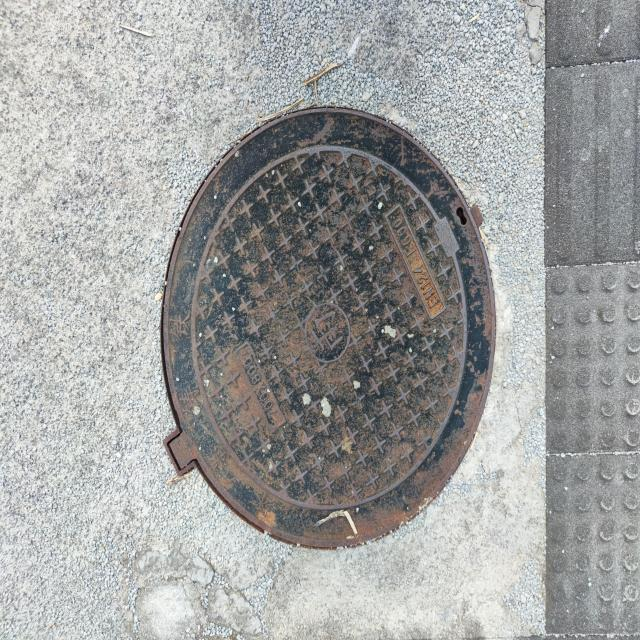Good: (154, 100, 504, 556)
